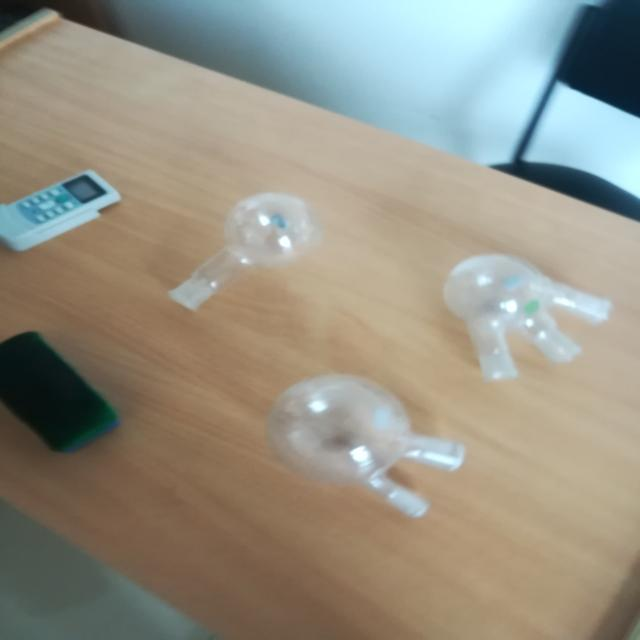Round_Bottom_Flask_Borosilicate_Glass_1_Neck: (157, 163, 346, 328)
Round_Bottom_Flask_Borosilicate_Glass_2_Neck: (250, 370, 469, 543)
Round_Bottom_Flask_Borosilicate_Glass_3_Neck: (435, 230, 633, 392)
